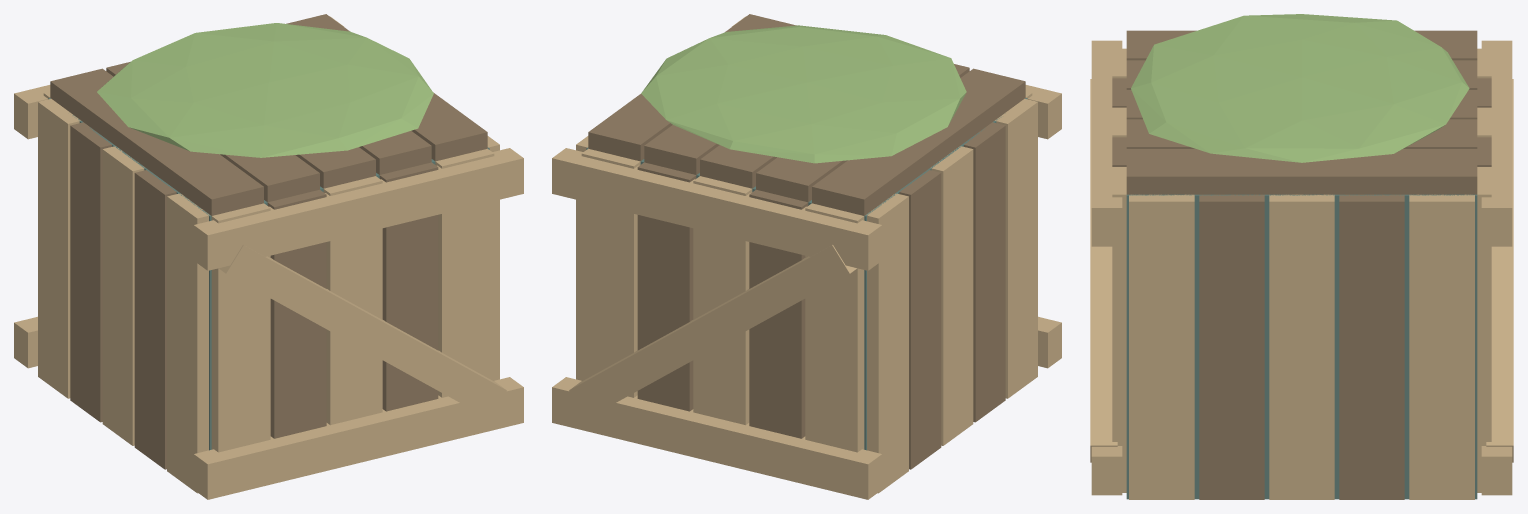
File: cover-crate-mossy.glb
3 views of the same model, side by side, from view 1: azimuth 30°, elevation 25°; view 2: azimuth 150°, elevation 25°; view 3: azimuth 270°, elevation 25° (orthographic). The views are drawn at different scales.
Visible parts, largest first — view 1: cover-crate-kit-mossy-end, cover-crate-kit-mossy-wood, cover-crate-kit-mossy-top, cover-crate-kit-mossy-shade; view 2: cover-crate-kit-mossy-end, cover-crate-kit-mossy-wood, cover-crate-kit-mossy-top, cover-crate-kit-mossy-shade; view 3: cover-crate-kit-mossy-end, cover-crate-kit-mossy-wood, cover-crate-kit-mossy-top, cover-crate-kit-mossy-shade.
Part boxes in pixels (x1,y1,x2,y2): cover-crate-kit-mossy-end: (14, 16, 523, 499); cover-crate-kit-mossy-wood: (50, 14, 487, 469); cover-crate-kit-mossy-top: (97, 23, 433, 157); cover-crate-kit-mossy-shade: (48, 98, 489, 450); cover-crate-kit-mossy-end: (552, 16, 1061, 499); cover-crate-kit-mossy-wood: (588, 14, 1025, 469); cover-crate-kit-mossy-top: (641, 25, 966, 163); cover-crate-kit-mossy-shade: (586, 98, 1027, 450); cover-crate-kit-mossy-end: (1090, 40, 1513, 499); cover-crate-kit-mossy-wood: (1112, 30, 1491, 499); cover-crate-kit-mossy-top: (1131, 14, 1469, 162); cover-crate-kit-mossy-shade: (1126, 194, 1477, 499).
Size of the model in its own units: 1.3 by 1.26 by 1.39.
